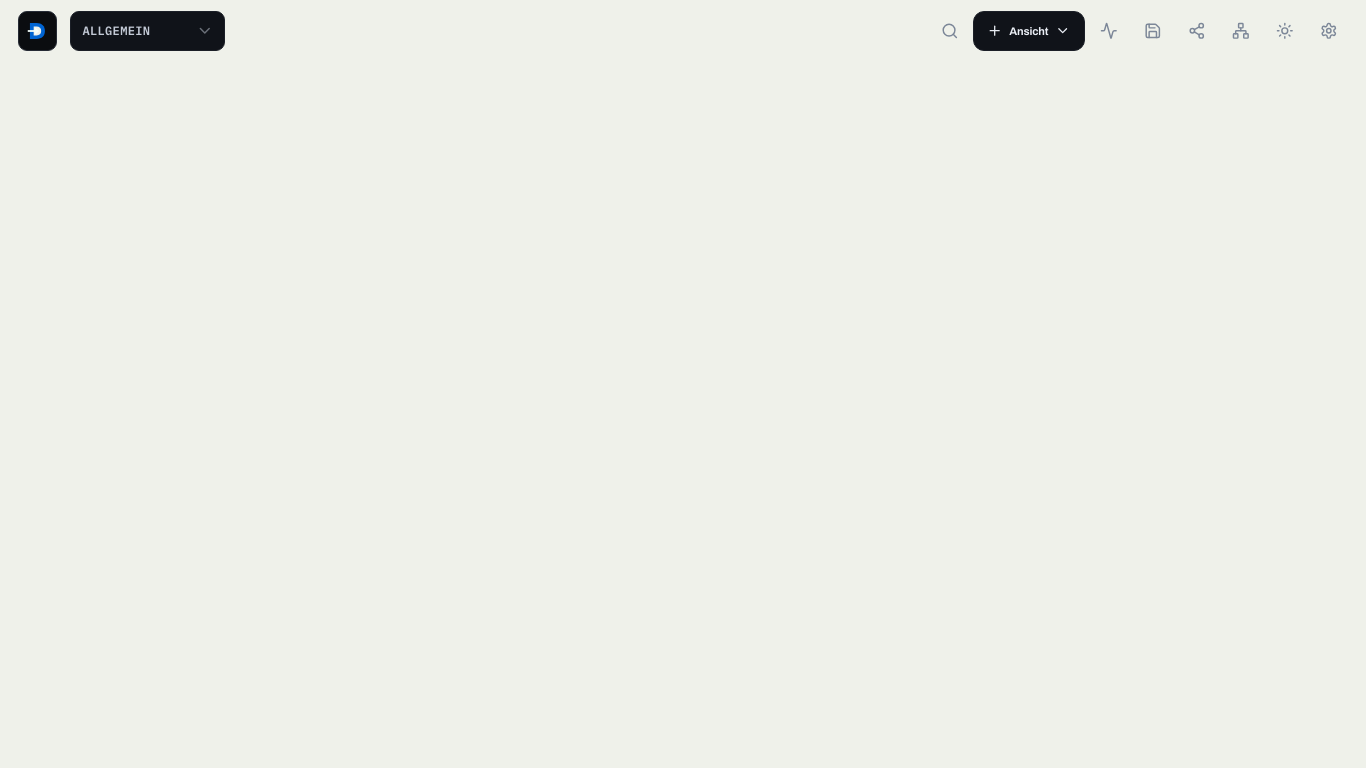
Scenario: GlobalSearch save-session-without-chat button › appears when the chat is empty and a second view is open, and opens the naming dialog
What coordinates should you click on to do the following:
click the button titled "Sitzung speichern (Chat wurde noch nicht benutzt)"
I would click on:
 (1153, 31)
Its box is [1133,11,1172,51].
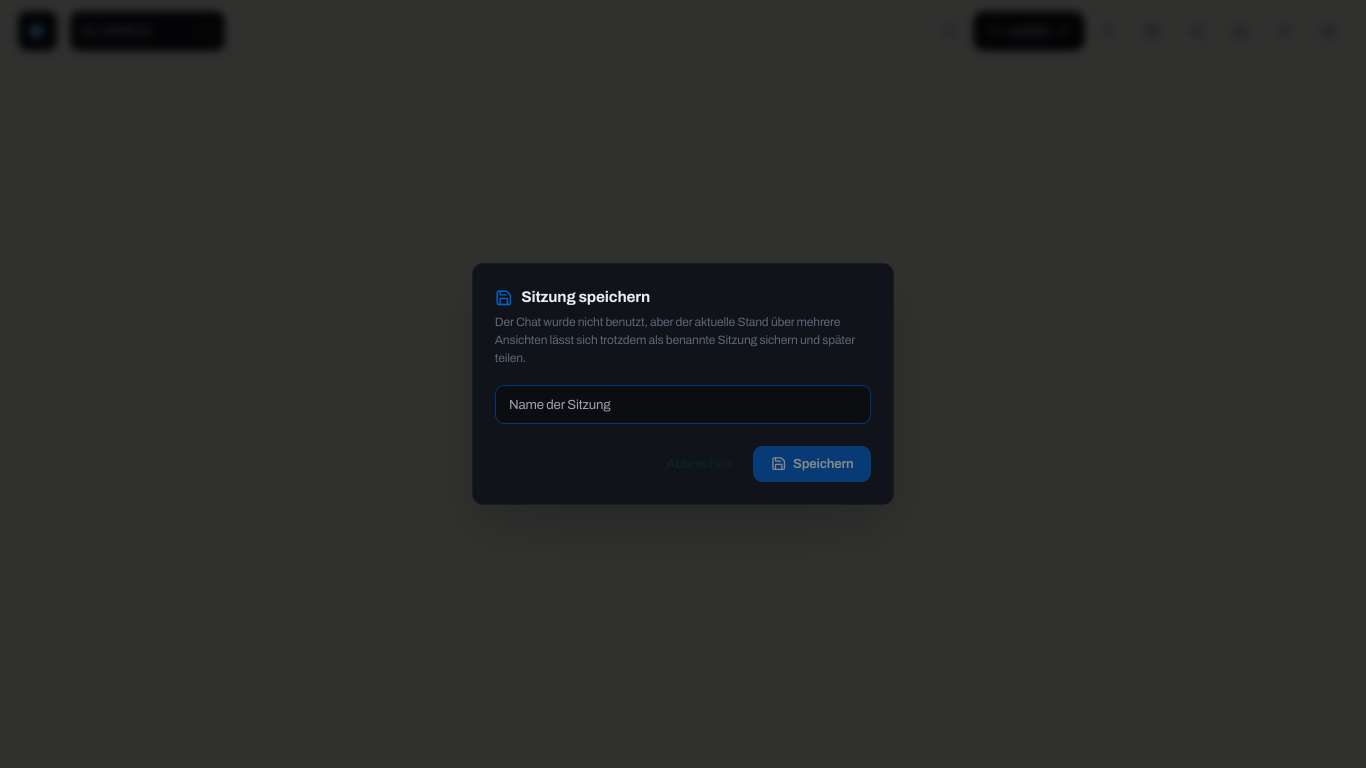
Now the field with placeholder "Name der Sitzung" is shown, box [495,385,871,424]
